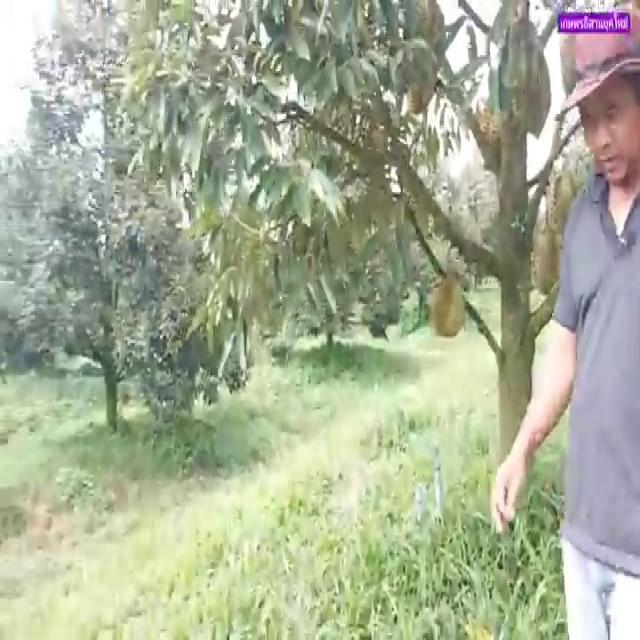durian: (502, 14, 554, 144), (427, 271, 470, 342), (529, 221, 563, 302)
